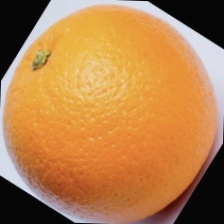orange: (4, 12, 199, 198)
